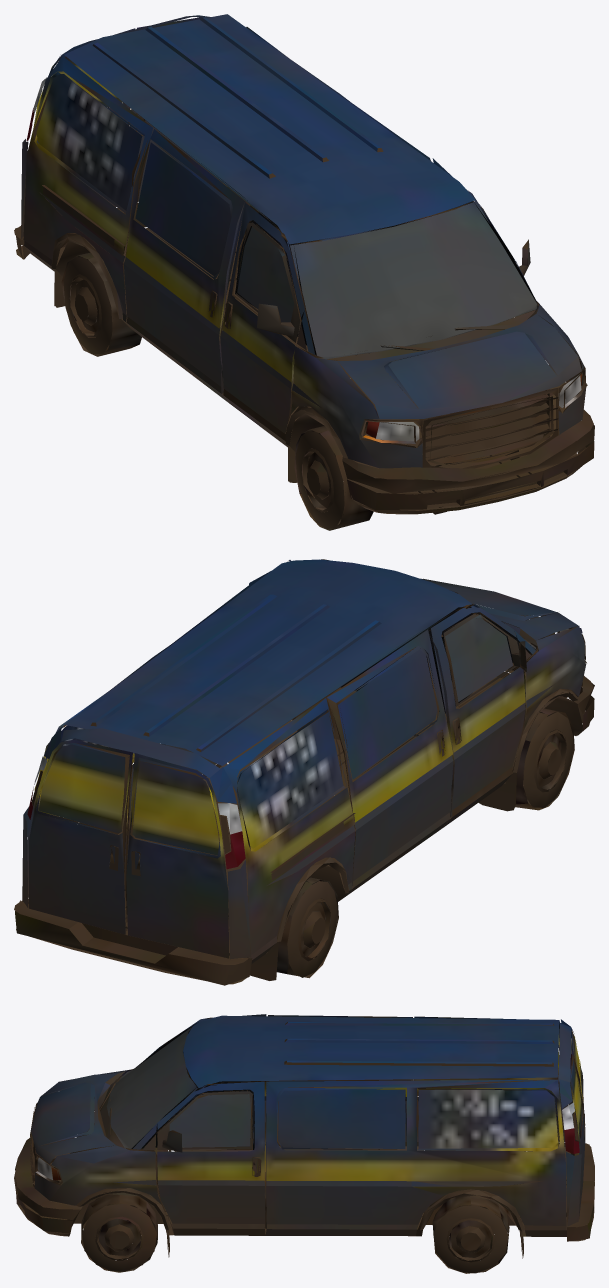
File: pack-post-van-L3.glb
3 views of the same model, one above another, from view 1: azimuth 30°, elevation 25°; view 2: azimuth 150°, elevation 25°; view 3: azimuth 270°, elevation 25° (orthographic). The views are drawn at different scales.
Visible parts, largest first — view 1: body; view 2: body; view 3: body.
Boxes of the visible parts, x1=… form: body: x1=14, y1=14, x2=594, y2=530; body: x1=14, y1=559, x2=594, y2=985; body: x1=14, y1=1014, x2=594, y2=1273.
Size of the model in its own units: 2.15 by 1.96 by 5.35.
1 material, 1 textured.
